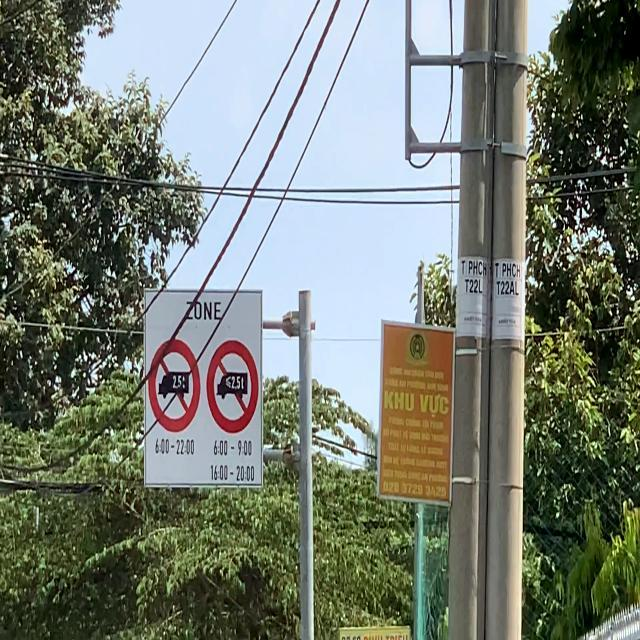Cam xe tai tren 2_5: (202, 330, 262, 444), (148, 336, 202, 434)
